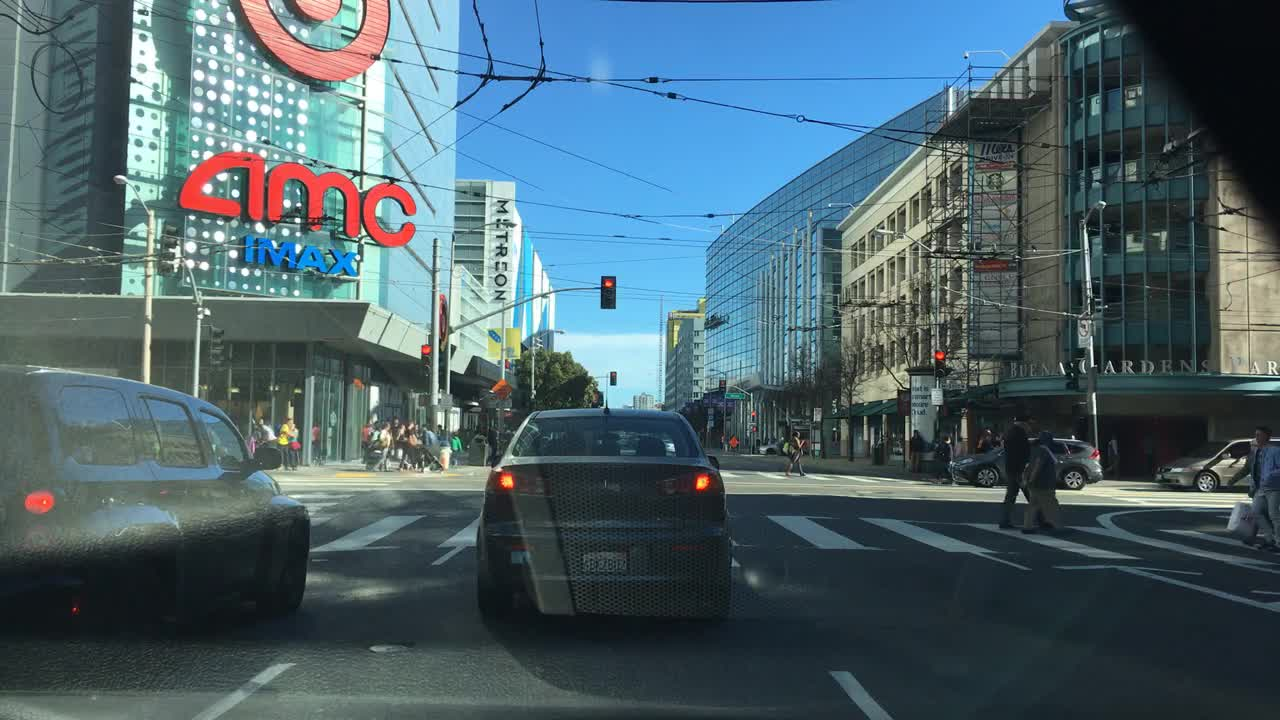car: (0, 361, 311, 646), (474, 381, 734, 623), (949, 439, 1105, 487), (1157, 438, 1278, 492), (754, 434, 783, 456)
person: (1225, 424, 1278, 556), (999, 408, 1048, 531), (1025, 431, 1076, 537), (358, 409, 377, 469), (396, 420, 418, 471), (786, 432, 809, 474), (374, 419, 391, 470), (419, 427, 438, 472), (938, 432, 955, 482), (908, 426, 926, 473), (391, 417, 406, 467), (278, 417, 292, 467), (289, 425, 301, 467), (256, 415, 274, 443), (447, 431, 460, 465), (975, 427, 992, 453)
traffic light: (160, 222, 178, 275), (598, 276, 615, 311), (1063, 358, 1077, 390), (421, 343, 433, 379), (716, 376, 728, 402), (934, 349, 944, 378), (749, 406, 758, 423), (608, 370, 616, 386)
traffic sign: (1075, 317, 1093, 344), (728, 431, 738, 450), (929, 389, 940, 406), (723, 392, 743, 399)
